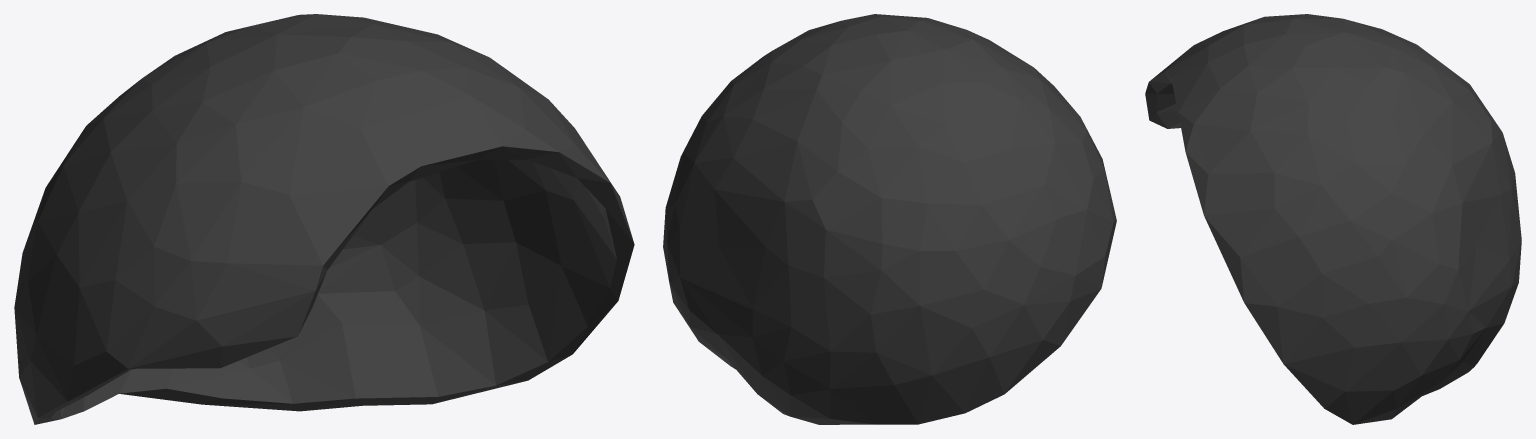
Rendered from Femur_head.glb.
3 renders of one model, left to right at view 1: azimuth 30°, elevation 25°; view 2: azimuth 150°, elevation 25°; view 3: azimuth 270°, elevation 25°, orthographic. The views are drawn at different scales.
Parts seen in each view (by area): view 1: Femur_head; view 2: Femur_head; view 3: Femur_head.
Part boxes in pixels (x1,y1,x2,y2): Femur_head: [14, 14, 634, 424]; Femur_head: [663, 14, 1116, 424]; Femur_head: [1145, 14, 1521, 424].
Size of the model in its own units: 0.0344 by 0.0271 by 0.028.
Materials: 1 (1 with a texture image).
